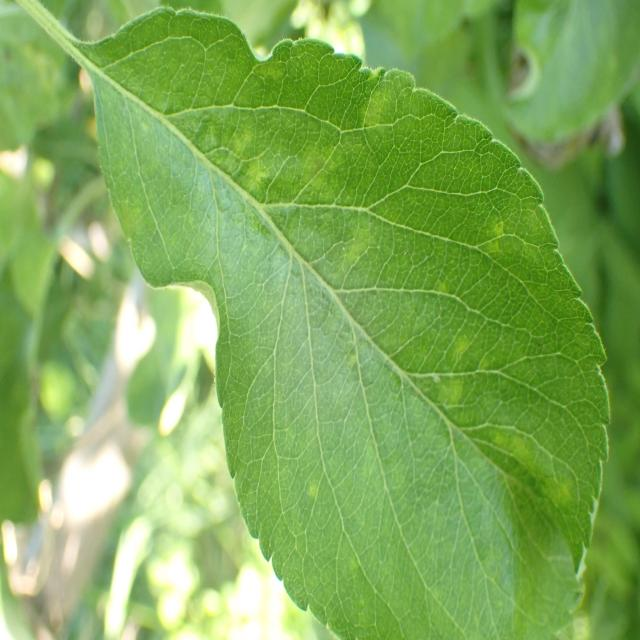scab: (101, 12, 595, 605)
